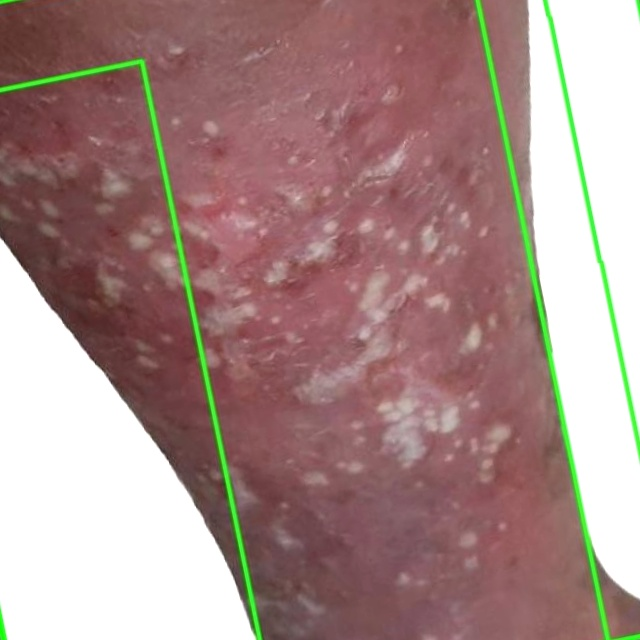Eczema: (0, 0, 639, 639), (0, 61, 259, 639)
